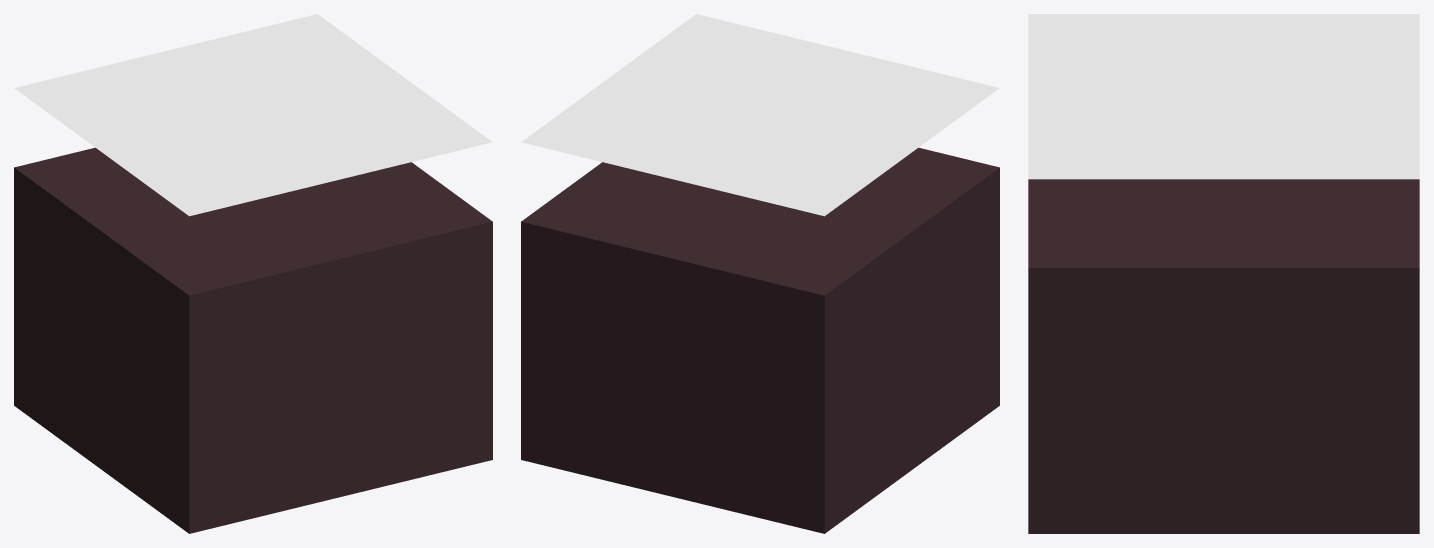
File: water.dae
3 views of the same model, side by side, from view 1: azimuth 30°, elevation 25°; view 2: azimuth 150°, elevation 25°; view 3: azimuth 270°, elevation 25° (orthographic). The views are drawn at different scales.
Parts seen in each view (by area): view 1: WaterDirt, Water; view 2: WaterDirt, Water; view 3: WaterDirt, Water.
Boxes of the visible parts, x1,y1,x2,y2 form: WaterDirt: (14,147,492,533); Water: (14,14,492,216); WaterDirt: (521,147,999,533); Water: (521,14,999,216); WaterDirt: (1028,179,1419,533); Water: (1028,14,1419,179).
Size of the model in its own units: 2 by 2 by 2.
